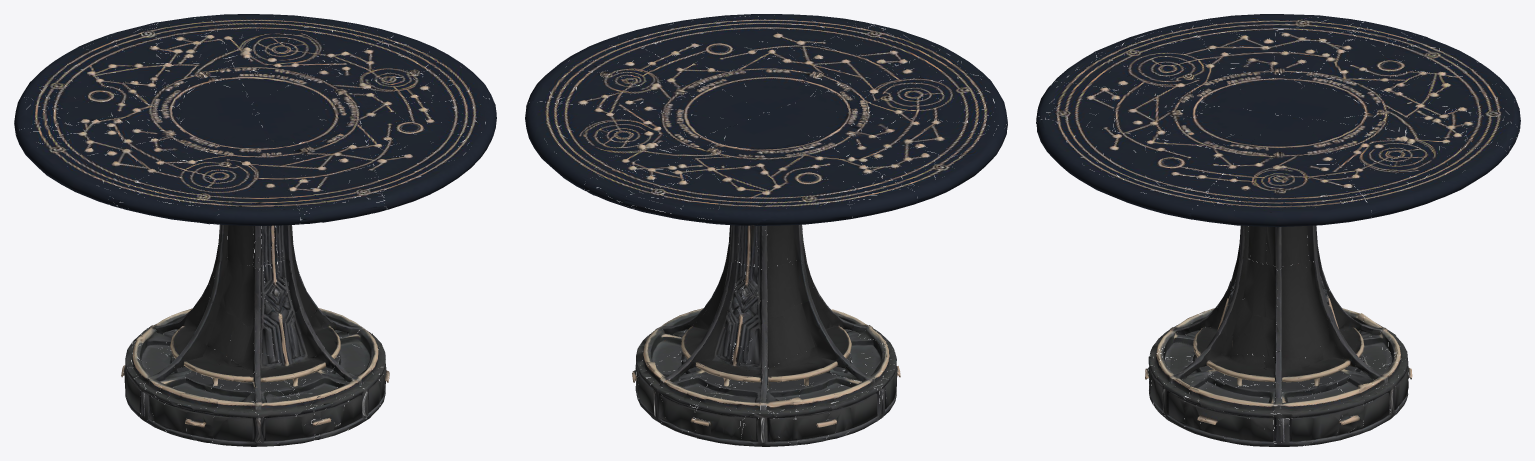
Rendered from mesa-de-lectura.glb.
3 renders of one model, left to right at view 1: azimuth 30°, elevation 25°; view 2: azimuth 150°, elevation 25°; view 3: azimuth 270°, elevation 25°, orthographic.
Parts seen in each view (by area): view 1: tripo_node_3c19c13f-a777-418c-8725-7829091f6f8b; view 2: tripo_node_3c19c13f-a777-418c-8725-7829091f6f8b; view 3: tripo_node_3c19c13f-a777-418c-8725-7829091f6f8b.
Part boxes in pixels (x1=…): tripo_node_3c19c13f-a777-418c-8725-7829091f6f8b: x1=14, y1=14, x2=496, y2=446; tripo_node_3c19c13f-a777-418c-8725-7829091f6f8b: x1=525, y1=14, x2=1007, y2=446; tripo_node_3c19c13f-a777-418c-8725-7829091f6f8b: x1=1036, y1=14, x2=1520, y2=446.
Size of the model in its own units: 0.9792 by 0.6297 by 0.979.
Materials: 1 (1 with a texture image).
